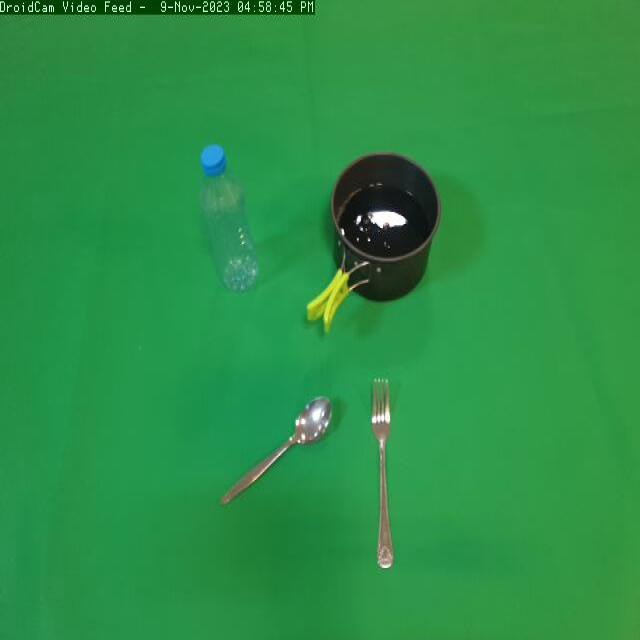bottle: (191, 135, 273, 323)
fork: (360, 364, 424, 588)
fullpot: (298, 142, 448, 340)
spoon: (216, 386, 340, 506)
